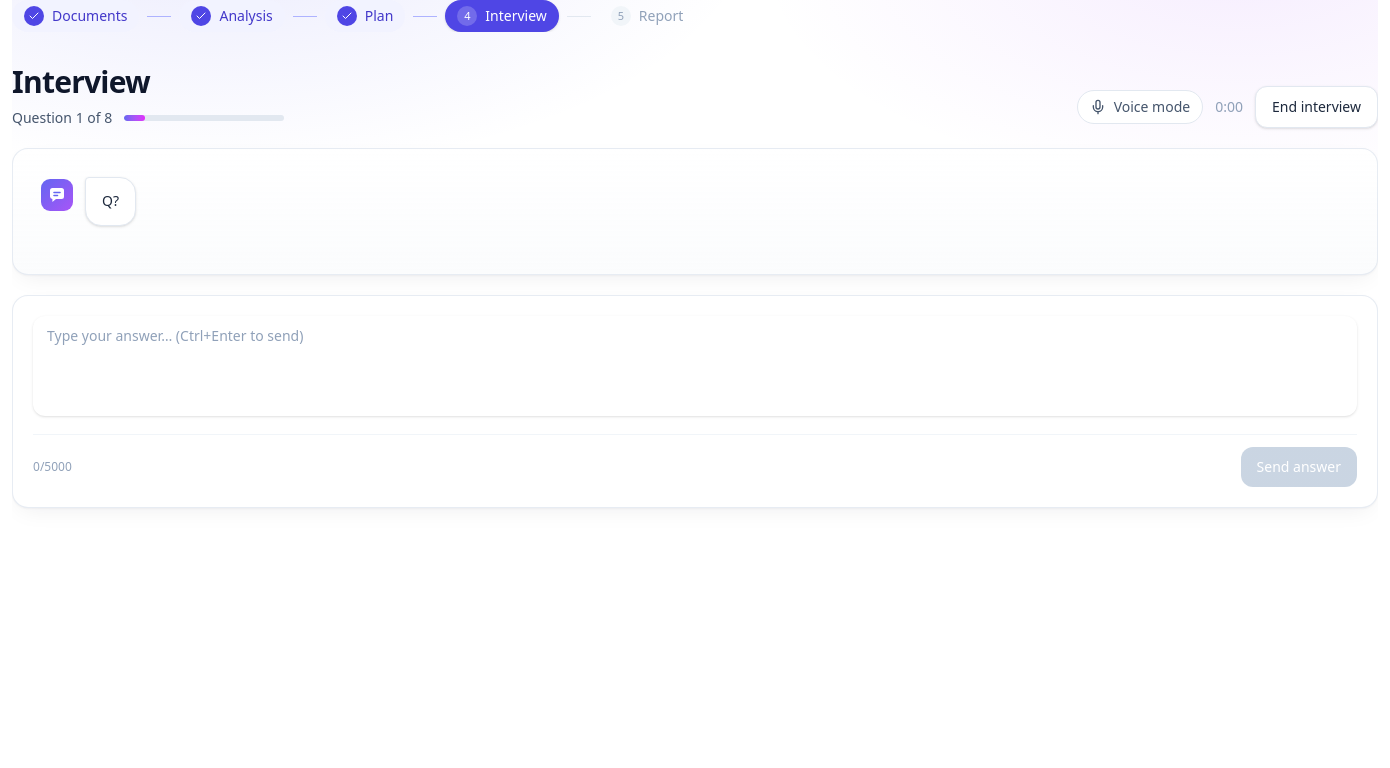
voice mode in the interview room › shows why a recording could not be transcribed
Click the switch labelled "Voice mode" at (1140, 107), box top-left (1077, 90), bottom-right (1203, 124)
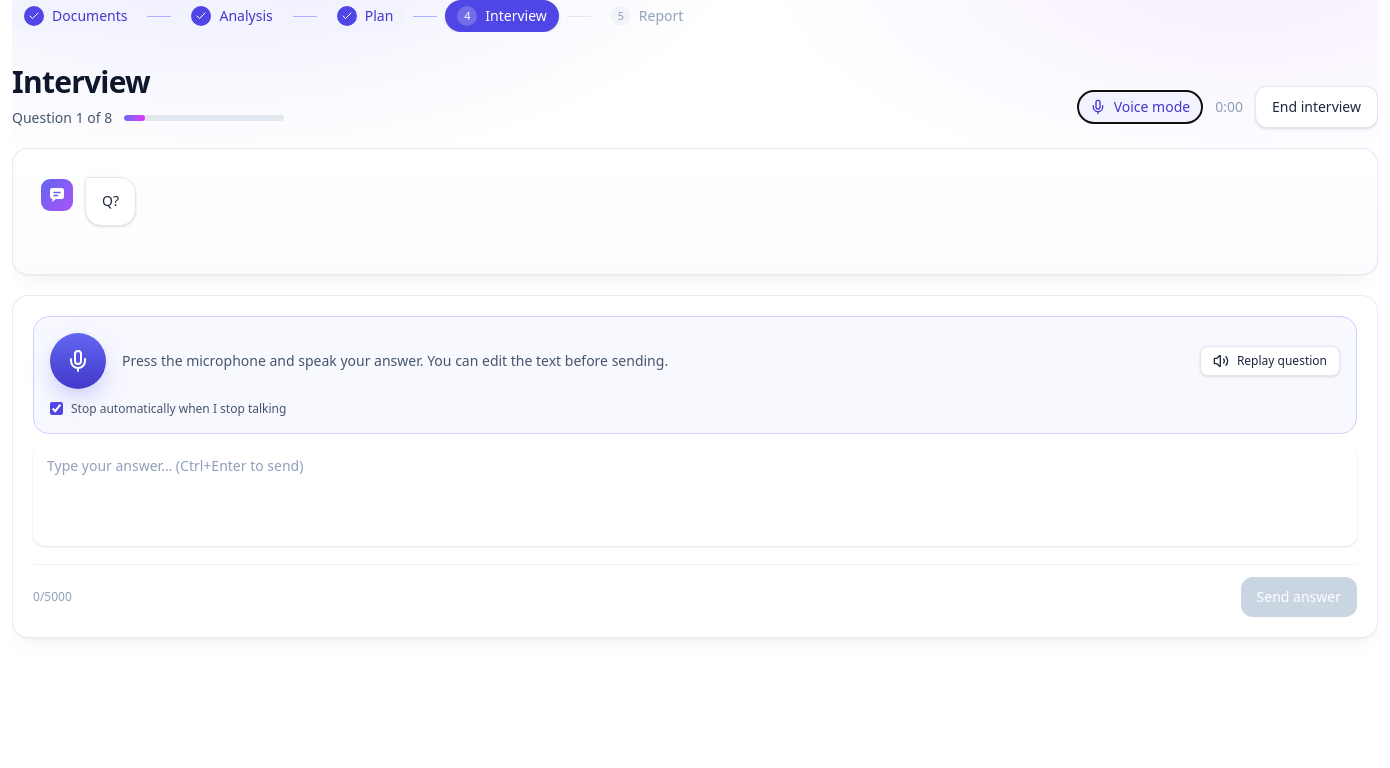
Click the button named "Record answer" at (78, 361), box top-left (50, 333), bottom-right (106, 389)
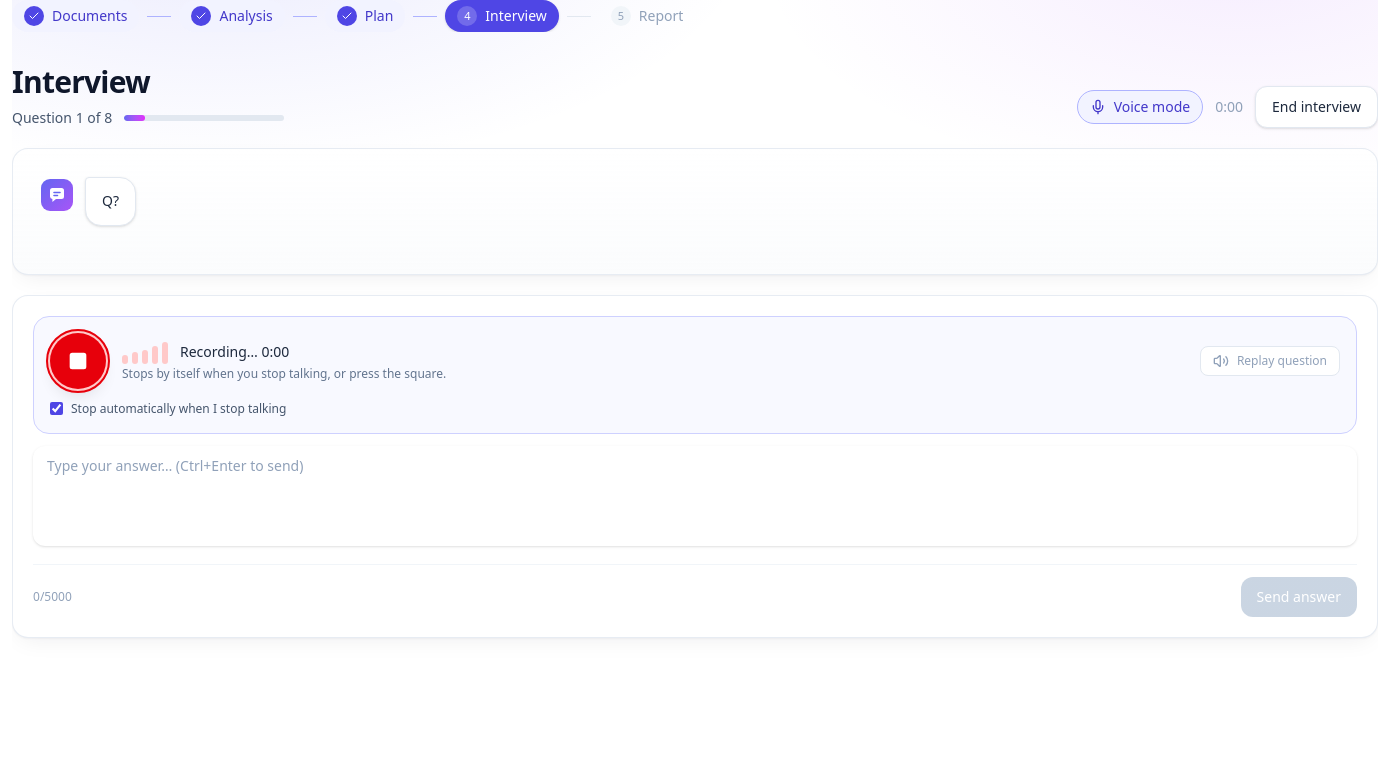
Click the button named "Stop recording" at (78, 361), box top-left (50, 333), bottom-right (106, 389)
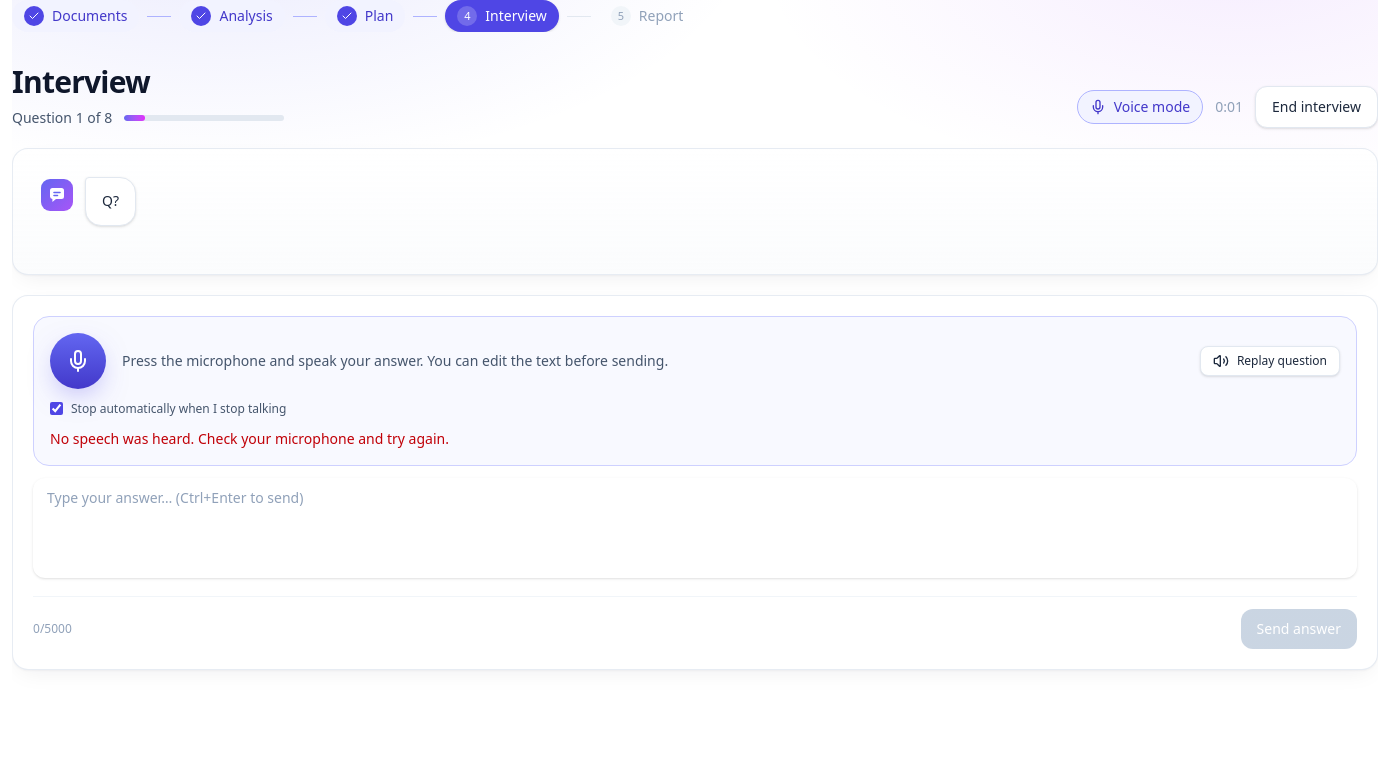
Expected: the text box labelled "your answer" is empty, top-left (33, 478), bottom-right (1357, 578)
Now the message shows "No speech was heard", box top-left (50, 429), bottom-right (449, 448)
